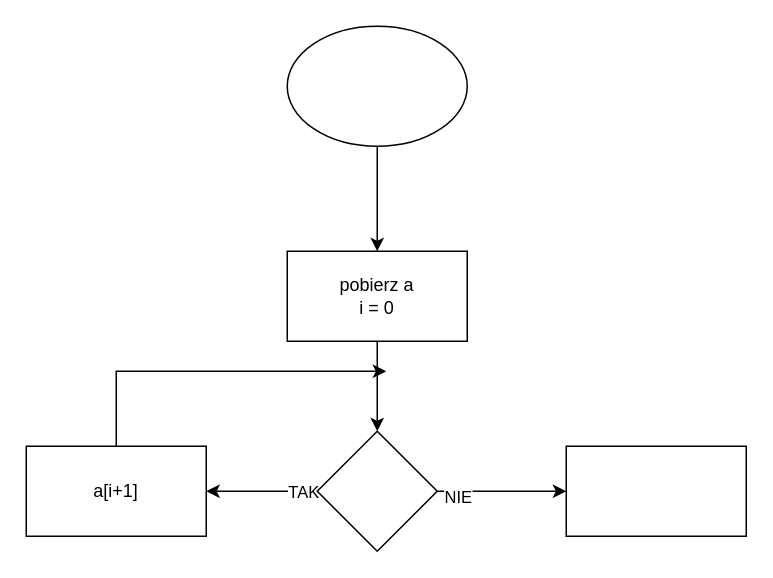
The diagram is 773 pixels wide and 578 high, and some of its shapes have lost their labels. The box of each missing label's shape, as (x1, y1, x2, y2) in pixels:
a[i] > a[i+1]: (316, 430, 437, 551)
START: (286, 25, 467, 146)
